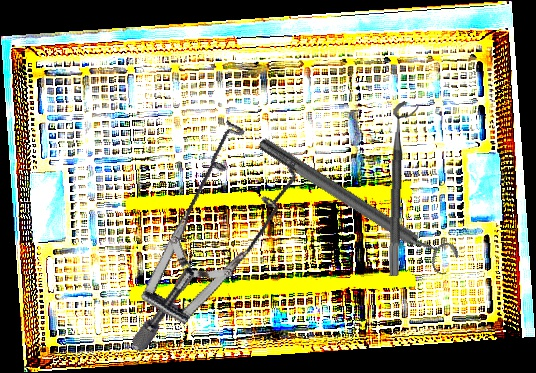Fixation Ring: (251, 125, 464, 281), (387, 101, 420, 277)
Speculum: (65, 100, 343, 354)
